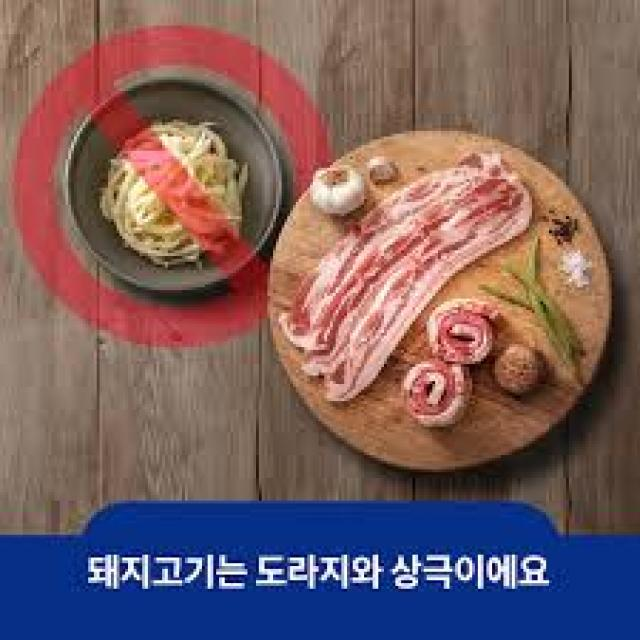Pork: (279, 154, 535, 402)
